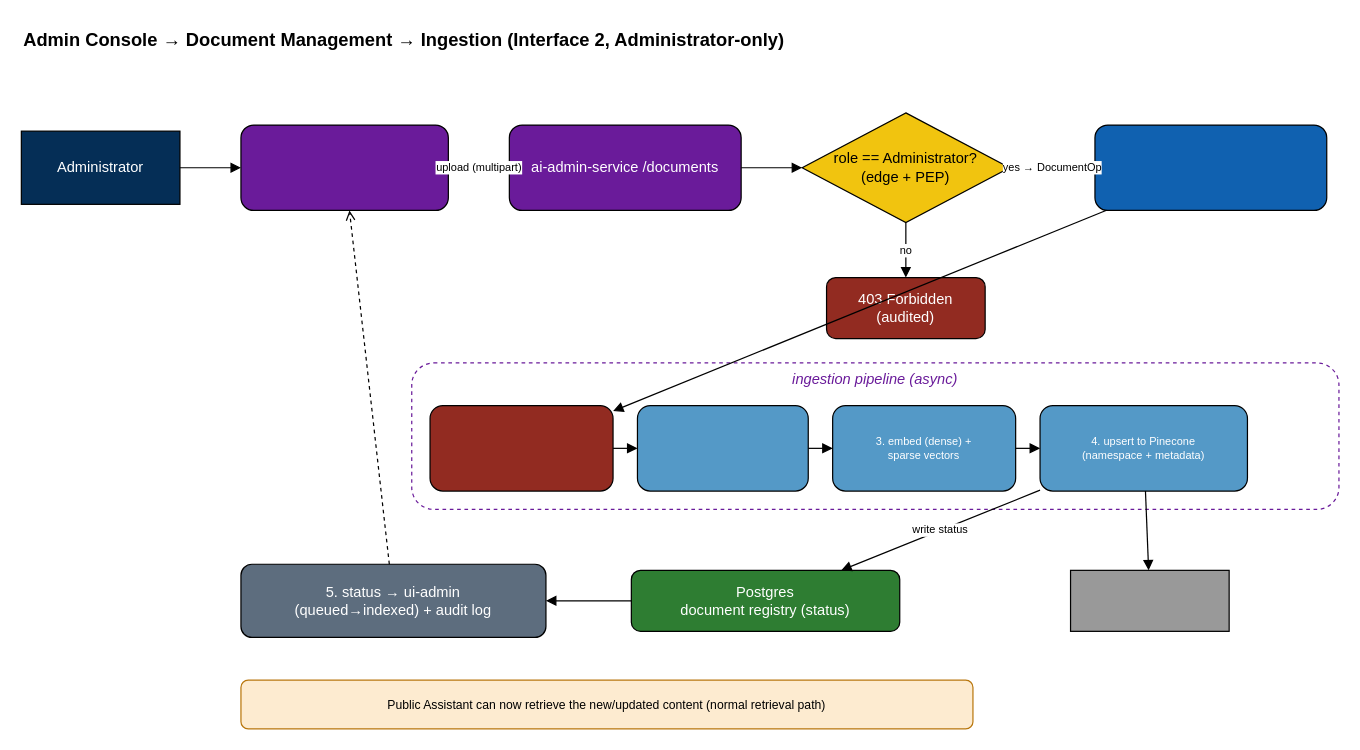
Some shapes in this 1360 by 750 pixel diagram are drawn without their labels. Each missing label, with the centre of its shape:
1. validate (type/size, scan, sanitize instructions): point 521,447
2. section-aware chunk: point 722,447
ai-knowledge-service (ingest) /ingest: point 1210,167
Pinecone: point 1149,600
ui-admin [Streamlit] upload / update / delete: point 344,167
